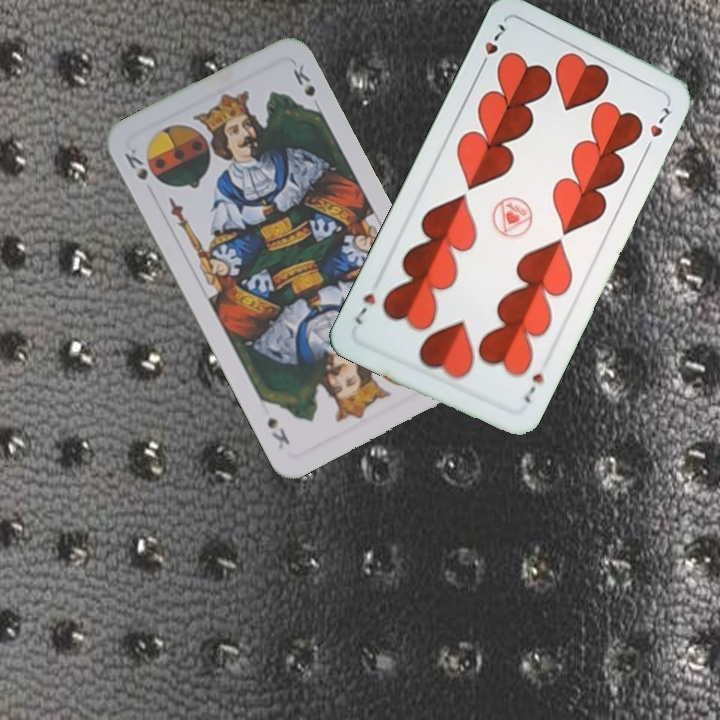H7: (475, 19, 508, 73), (519, 369, 547, 407)
SK: (120, 148, 151, 183)
